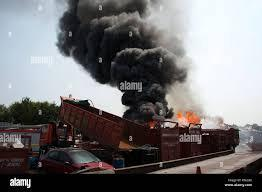fire: (174, 109, 203, 127)
